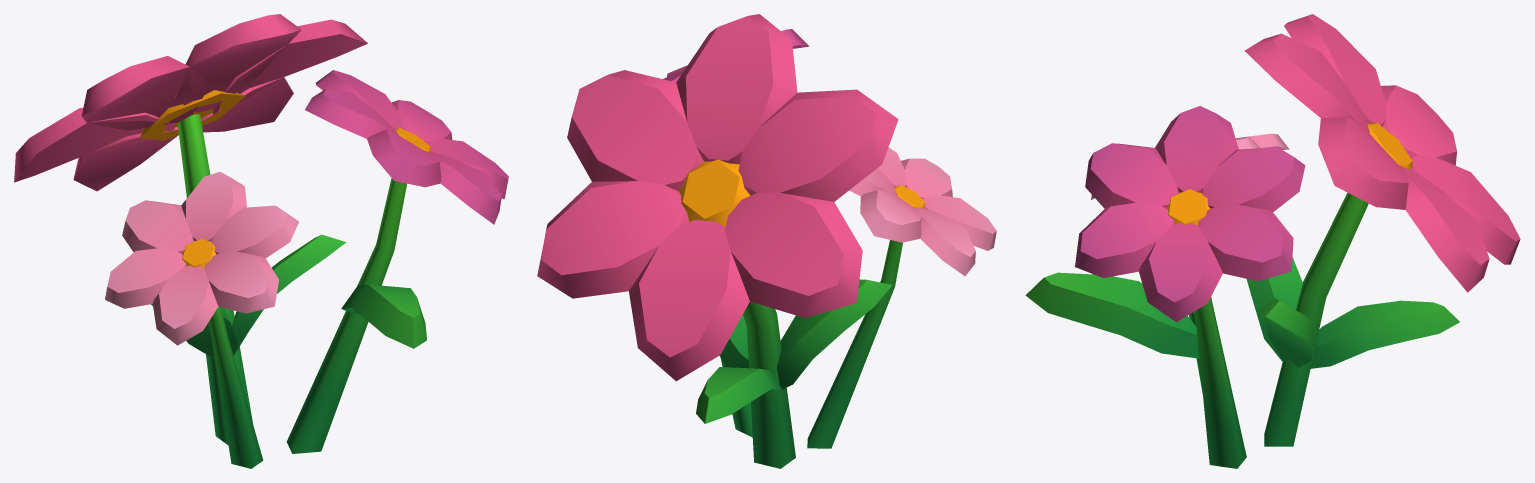
Rendered from Flowers_1_G.glb.
3 renders of one model, left to right at view 1: azimuth 30°, elevation 25°; view 2: azimuth 150°, elevation 25°; view 3: azimuth 270°, elevation 25°, orthographic. The views are drawn at different scales.
Parts seen in each view (by area): view 1: Flowers_1_G; view 2: Flowers_1_G; view 3: Flowers_1_G.
Part boxes in pixels (left/top/right/bottom): Flowers_1_G: left=14, top=14, right=508, bottom=468; Flowers_1_G: left=537, top=14, right=996, bottom=468; Flowers_1_G: left=1025, top=14, right=1520, bottom=468.
Size of the model in its own units: 0.4447 by 0.4692 by 0.5078.
1 material, 1 textured.
